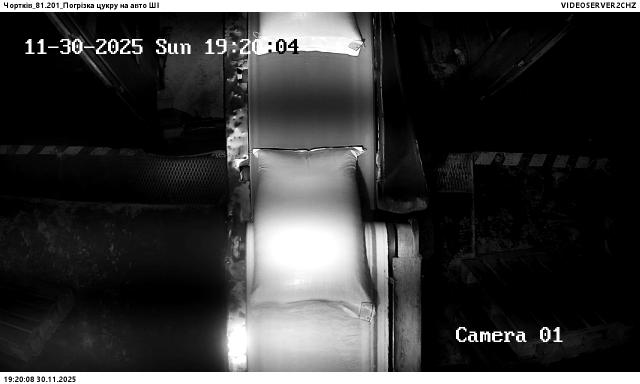bag: (254, 147, 378, 324), (258, 12, 363, 56)
